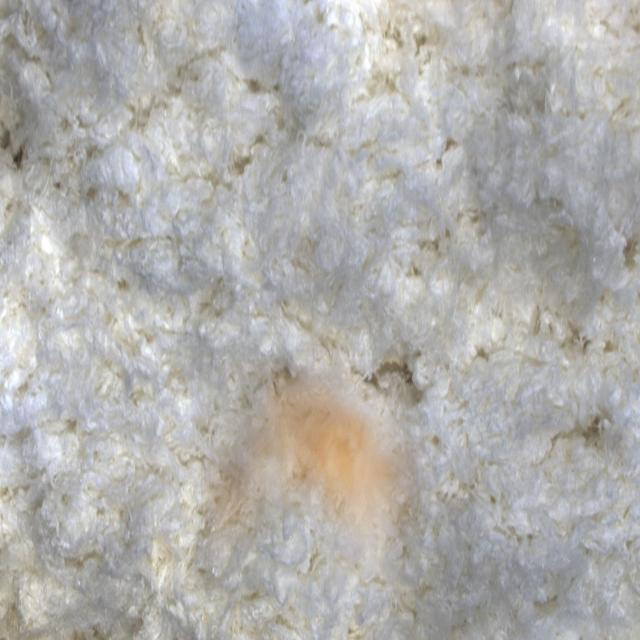dust: (201, 359, 440, 590)
